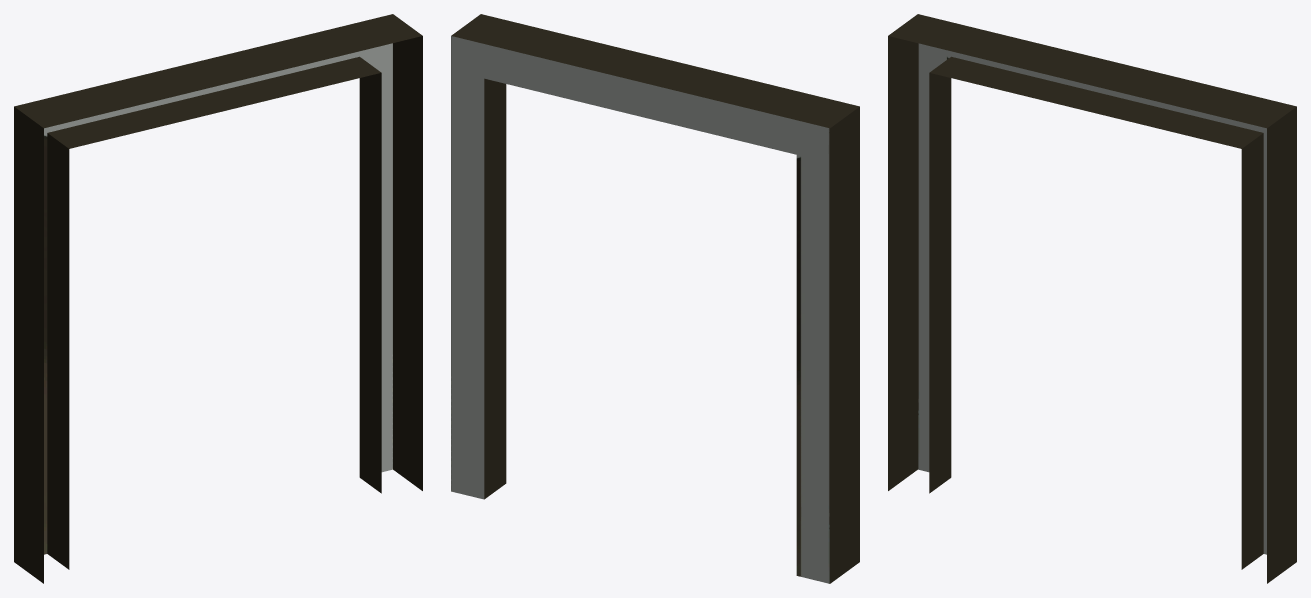
Rendered from lift_border.FBX.
The picture shows the model from 3 angles, left to right: view 1: azimuth 30°, elevation 25°; view 2: azimuth 150°, elevation 25°; view 3: azimuth 330°, elevation 25°; orthographic projection.
Visible parts, largest first — view 1: Mesh_0059; view 2: Mesh_0059; view 3: Mesh_0059.
Boxes of the visible parts, x1,y1,x2,y2 form: Mesh_0059: (14, 14, 422, 583); Mesh_0059: (451, 14, 859, 583); Mesh_0059: (888, 14, 1296, 583).
Size of the model in its own units: 746 by 857 by 102.
